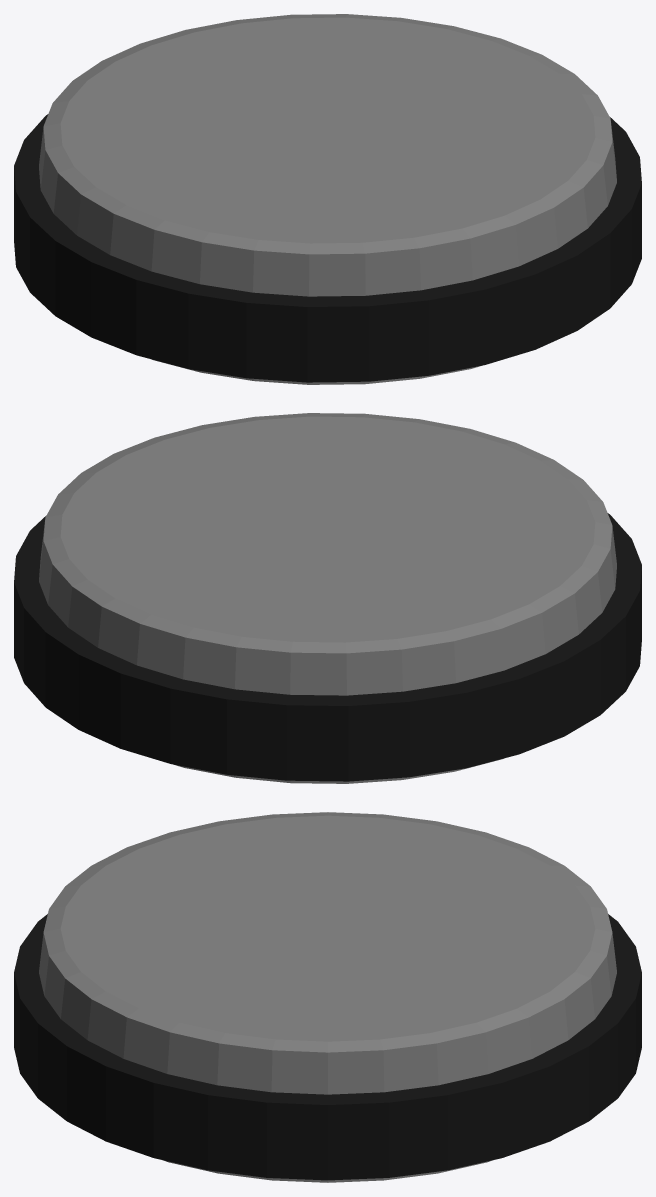
The model's file is socle.fbx.
3 renders of one model, top to bottom at view 1: azimuth 30°, elevation 25°; view 2: azimuth 150°, elevation 25°; view 3: azimuth 270°, elevation 25°, orthographic.
Parts seen in each view (by area): view 1: Cylinder; view 2: Cylinder; view 3: Cylinder.
Boxes of the visible parts, box(x1,y1,x2,y2) form: Cylinder: box(14, 14, 641, 384); Cylinder: box(14, 413, 641, 783); Cylinder: box(14, 812, 641, 1182).
Size of the model in its own units: 200 by 46.78 by 200.
